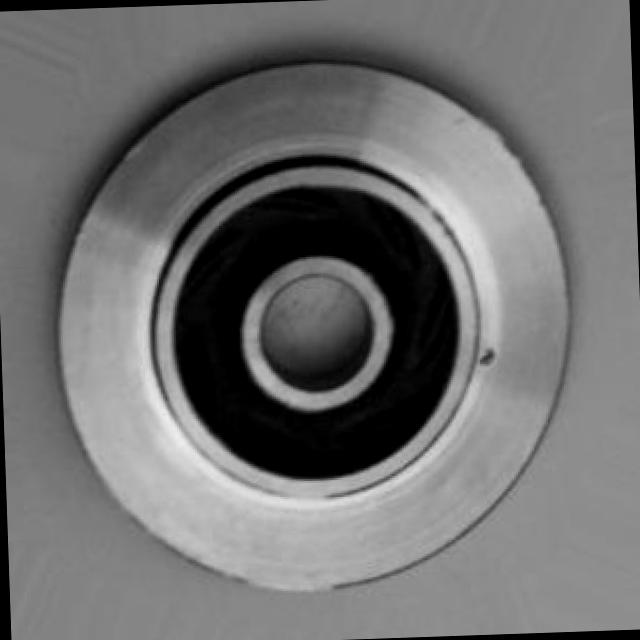Defect: (475, 338, 503, 375)
